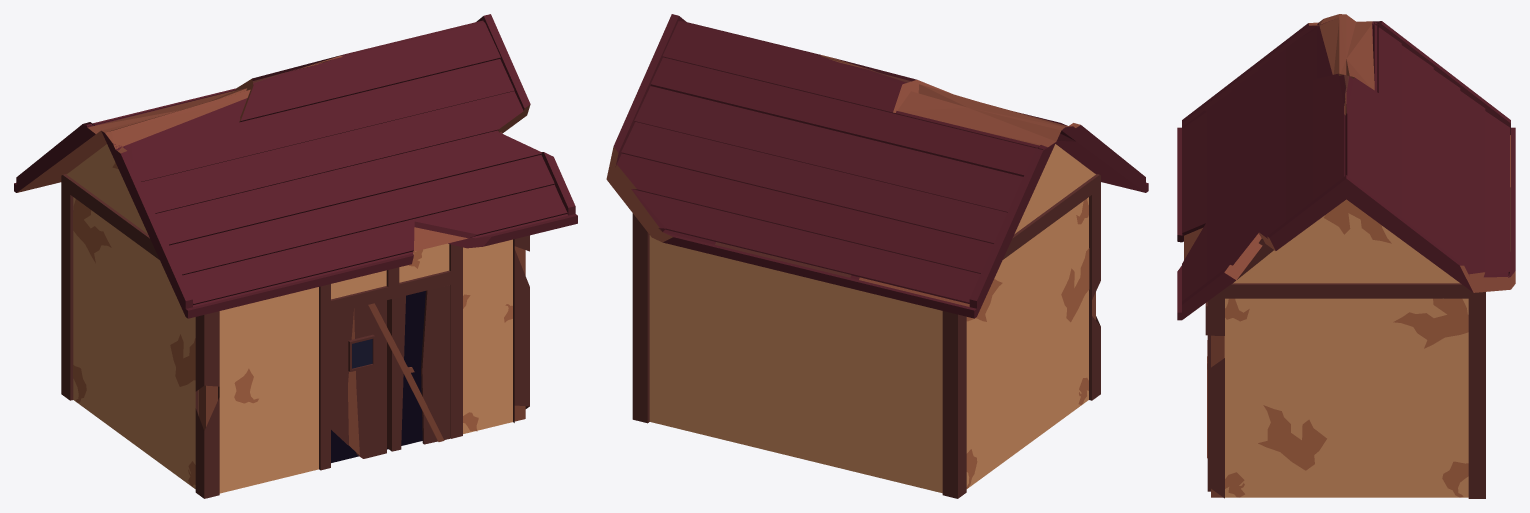
The model's file is casebre2.fbx.
The picture shows the model from 3 angles, left to right: view 1: azimuth 30°, elevation 25°; view 2: azimuth 150°, elevation 25°; view 3: azimuth 270°, elevation 25°; orthographic projection. The views are drawn at different scales.
Visible parts, largest first — view 1: Cube.010; view 2: Cube.010; view 3: Cube.010.
Part boxes in pixels (box(x1,y1,x2,y2)): Cube.010: box(14, 14, 577, 498); Cube.010: box(606, 14, 1148, 498); Cube.010: box(1177, 14, 1515, 498).
Size of the model in its own units: 644 by 549 by 499.
